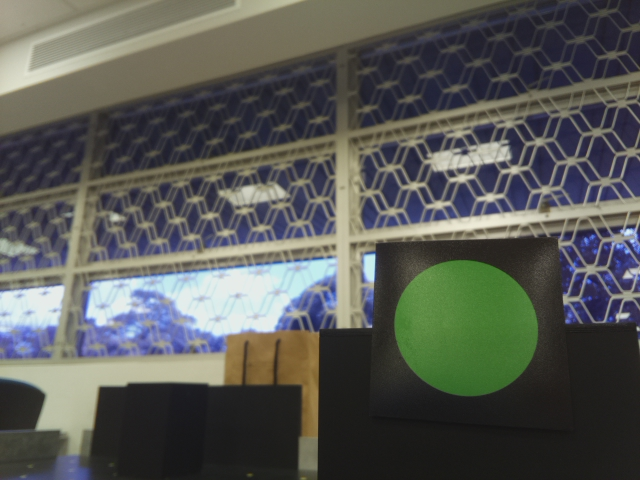go: (389, 254, 548, 401)
